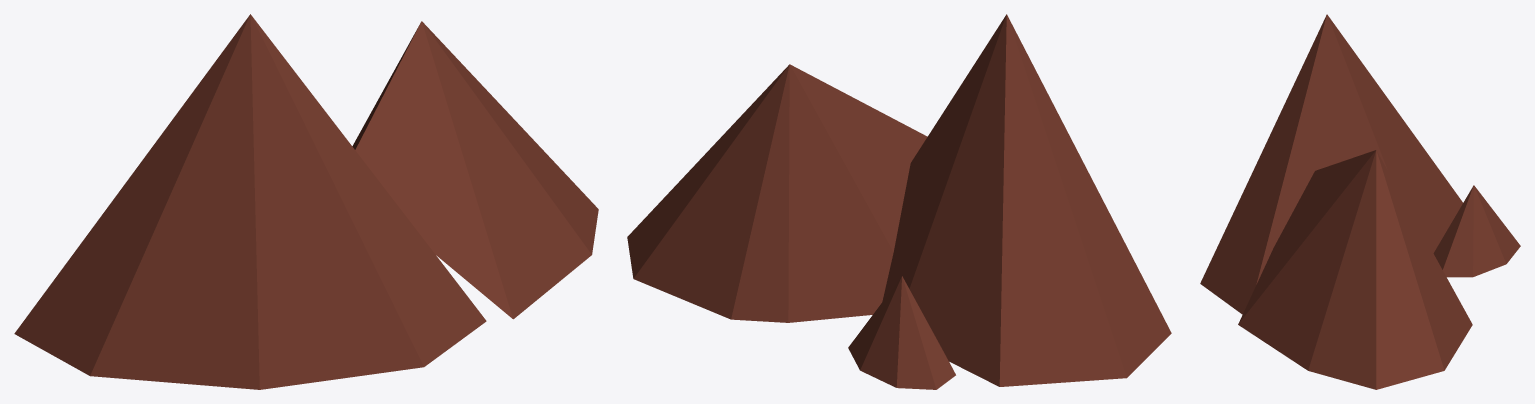
Rendered from Mountain1.glb.
The picture shows the model from 3 angles, left to right: view 1: azimuth 30°, elevation 25°; view 2: azimuth 150°, elevation 25°; view 3: azimuth 270°, elevation 25°; orthographic projection. The views are drawn at different scales.
Visible parts, largest first — view 1: Cone.001, Cone; view 2: Cone.001, Cone, Cone.002; view 3: Cone, Cone.001, Cone.002.
Part boxes in pixels (left/top/right/bottom): Cone.001: left=14, top=14, right=486, bottom=389; Cone: left=352, top=21, right=598, bottom=319; Cone.001: left=882, top=14, right=1171, bottom=386; Cone: left=627, top=64, right=927, bottom=322; Cone.002: left=848, top=276, right=955, bottom=389; Cone: left=1238, top=150, right=1472, bottom=389; Cone.001: left=1200, top=14, right=1462, bottom=314; Cone.002: left=1433, top=185, right=1520, bottom=277.
Size of the model in its own units: 8.61 by 4.57 by 5.61.
